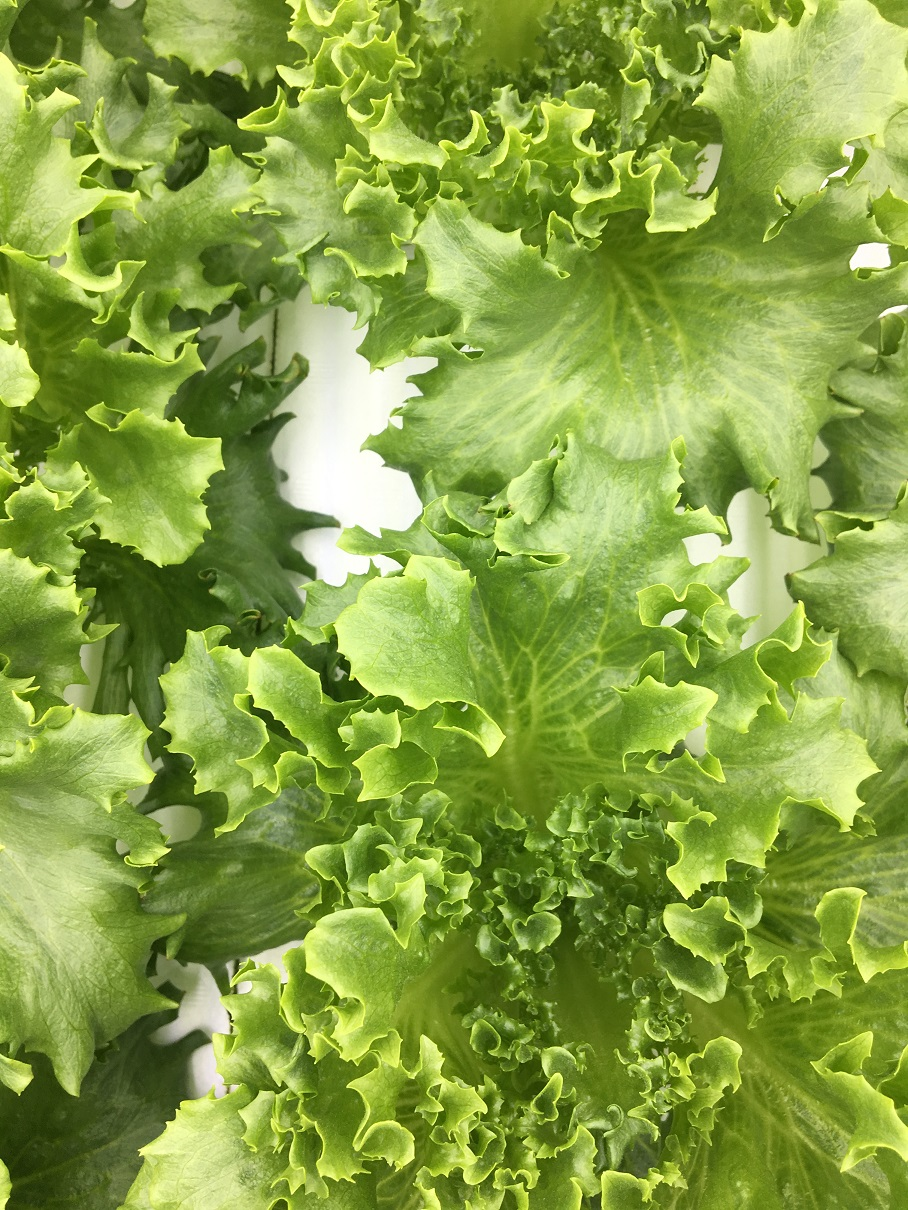tipburn: (244, 605, 268, 626), (782, 565, 800, 585)
